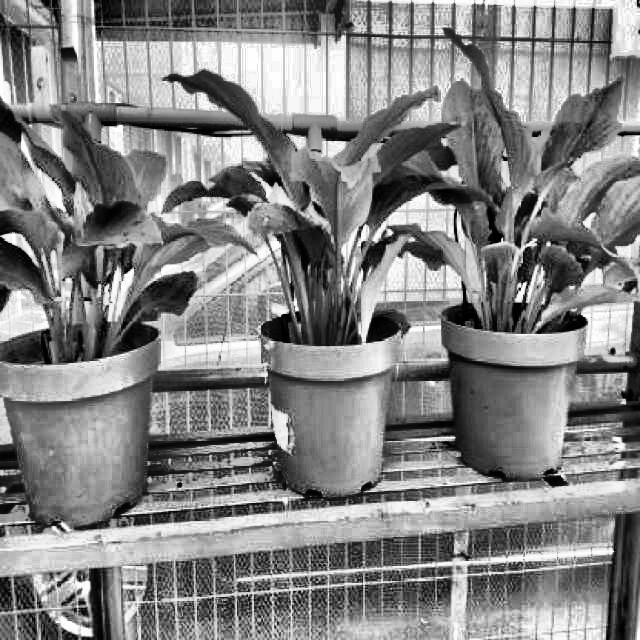plants: (152, 60, 463, 351), (384, 21, 640, 320), (0, 82, 262, 360)
